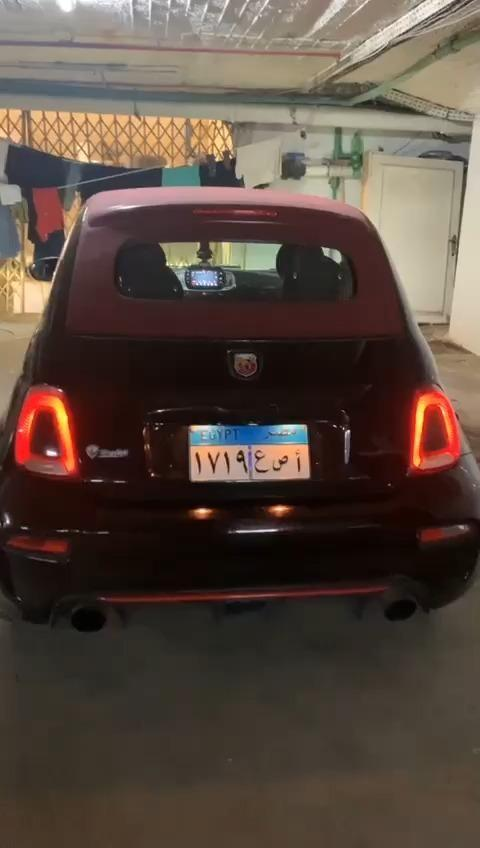1: (220, 449, 236, 474), (193, 449, 205, 476)
7: (204, 446, 221, 474)
9: (236, 448, 250, 474)
Een: (253, 447, 270, 474)
License Plate: (188, 417, 314, 480)
Saad: (271, 454, 291, 474)
alef: (291, 447, 305, 470)
